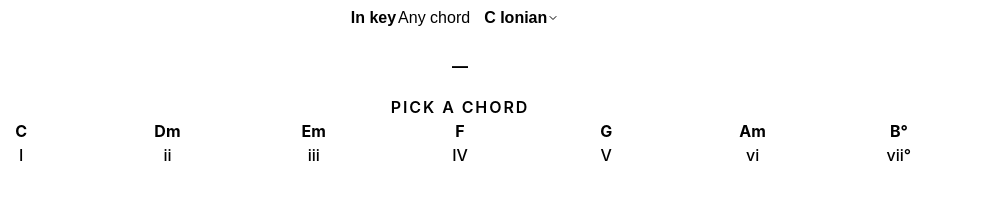
Test: every chord shows its name and its formula › in key: the numeral and full name, plus the intervals
The image size is (984, 202).
What coordinates should you click on to do the following:
click the button with aria-label "Dm, ii"
I would click on:
 (167, 144)
Its box is [94,118,241,169].
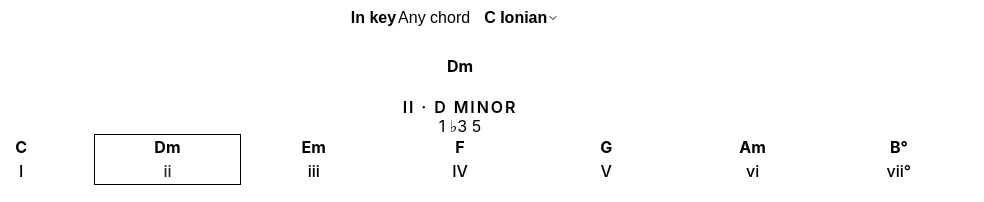
Expected: the text "ii · D minor" is shown, [403,96,517,118]
What coordinates should you click on to do the following:
click the button with aria-label "B°, vii°"
I would click on:
 (899, 160)
Its box is [826,134,972,185].
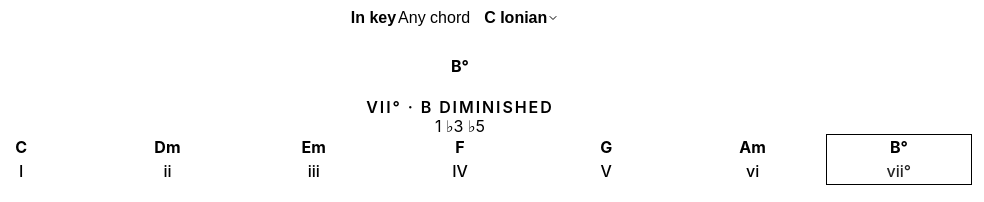
Expected: the text "vii° · B diminished" is shown, [366,96,554,118]
